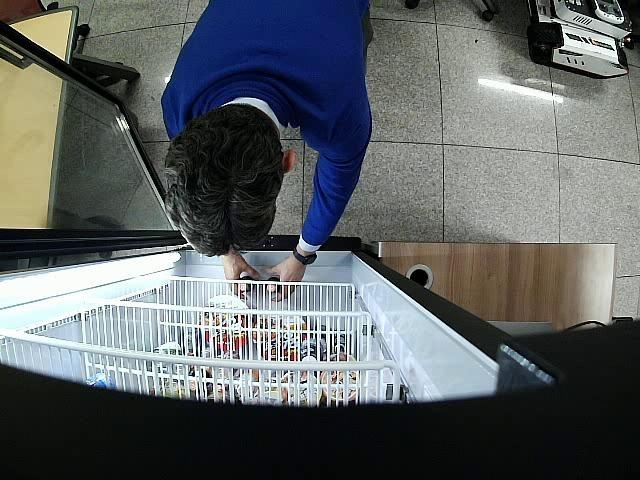17_vita500: (239, 276, 255, 292), (266, 277, 281, 292)
